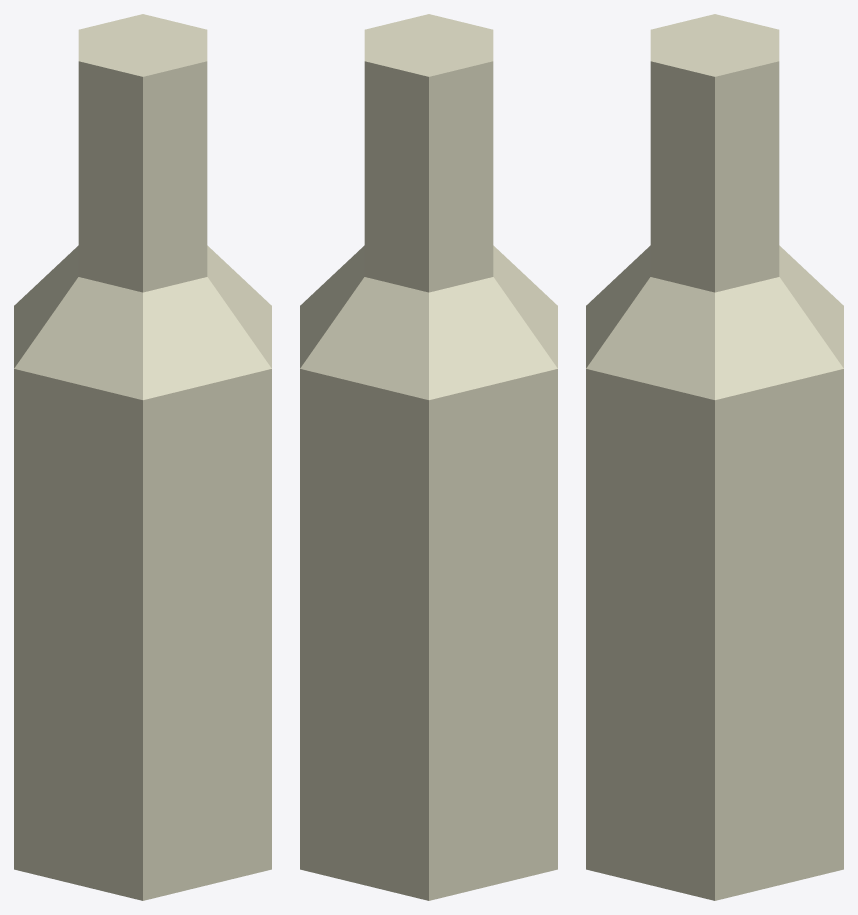
The model's file is bottle_white.fbx.
3 renders of one model, left to right at view 1: azimuth 30°, elevation 25°; view 2: azimuth 150°, elevation 25°; view 3: azimuth 270°, elevation 25°, orthographic.
Visible parts, largest first — view 1: bottle_white; view 2: bottle_white; view 3: bottle_white.
Boxes of the visible parts, x1,y1,x2,y2 form: bottle_white: [14, 14, 271, 900]; bottle_white: [300, 14, 557, 900]; bottle_white: [586, 14, 843, 900].
Bounding box in the file's own units: 13.84 × 40.65 × 11.99.
